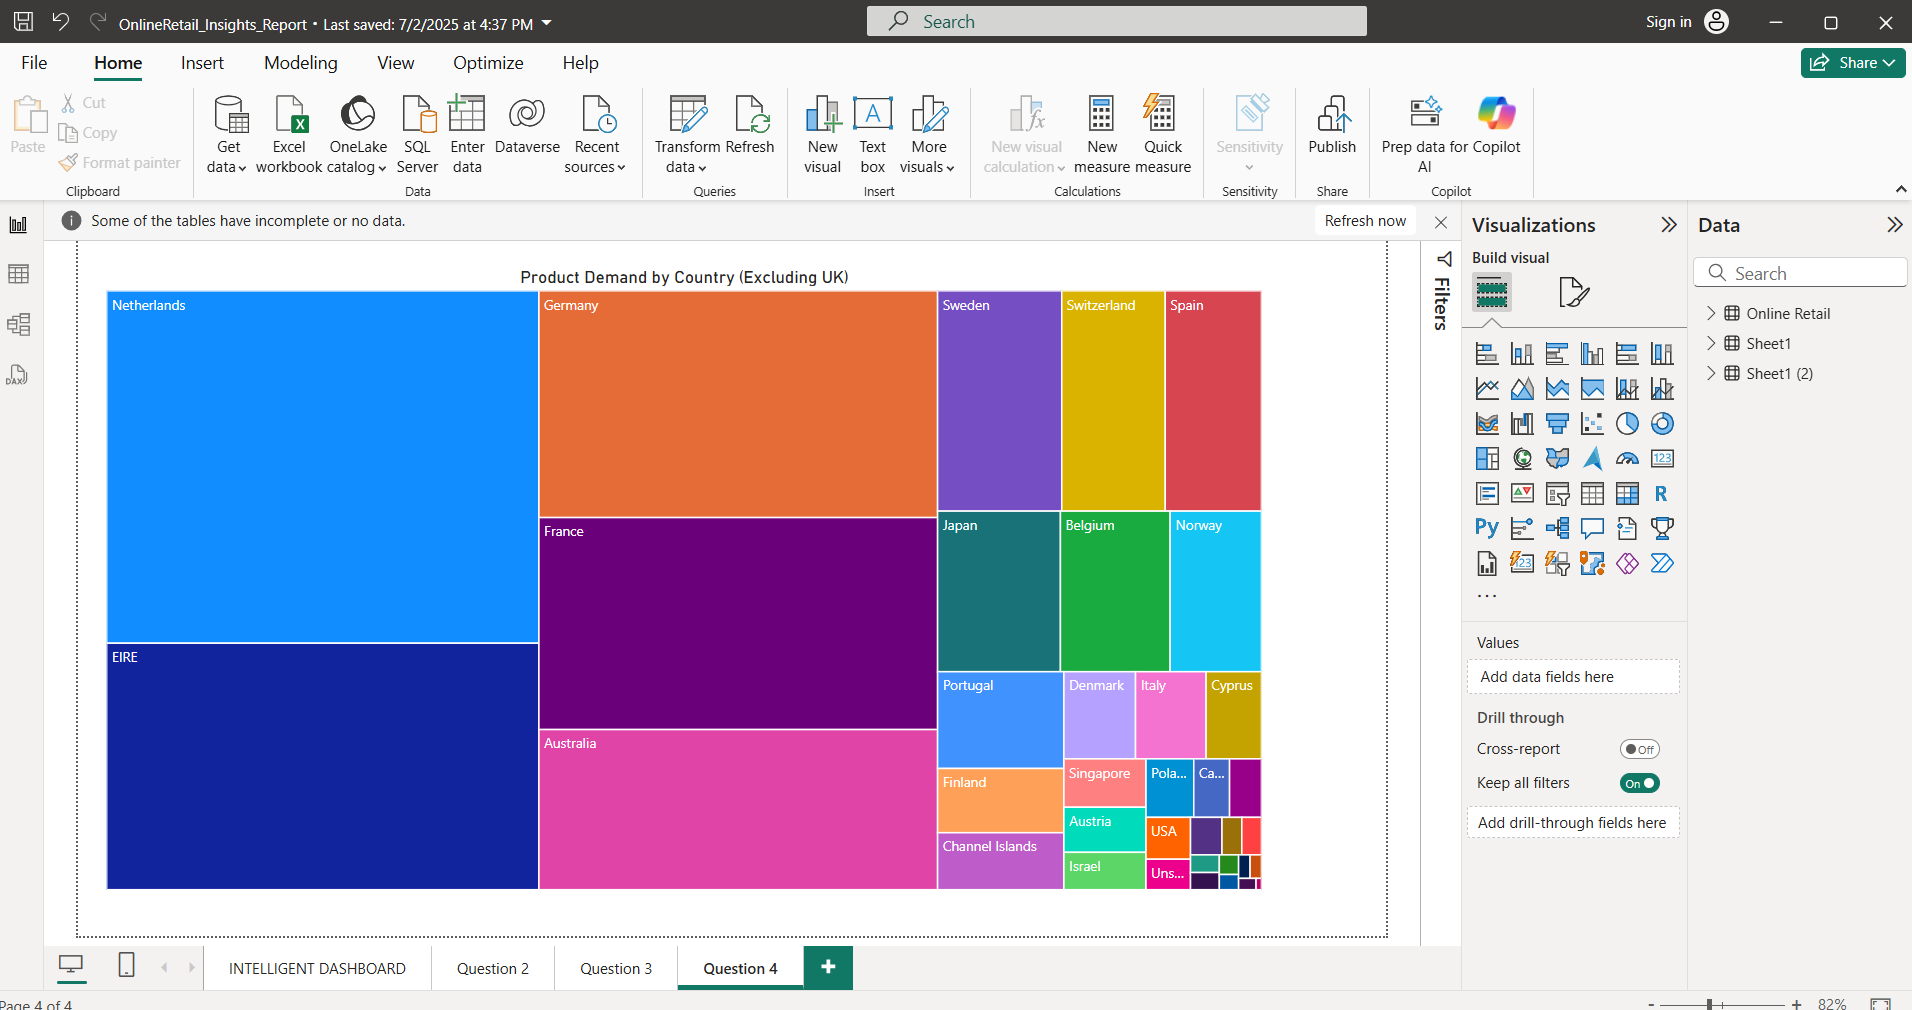

This screenshot's page, from the dashboard's own definition file:
{"tool":"powerbi","page":{"name":"Question 4","canvas":[1280,720],"ordinal":3},"visuals":[{"type":"treemap","title":"Product Demand by Country (Excluding UK)","fields":{"Group":["Online Retail.Country"],"Values":["Sum(Online Retail.Quantity)"]},"box":[23.2,64.8,1139.7,615.1],"z":1}]}

Visuals, with their boxes on the page's 1280x720 design canvas (x1, y1, x2, y2). These are canvas units, not pixel positions in the 1912x1010 screenshot, which may show the page scaled, cropped or inside an application window:
"Product Demand by Country (Excluding UK)" treemap: detection(23, 65, 1163, 680)
